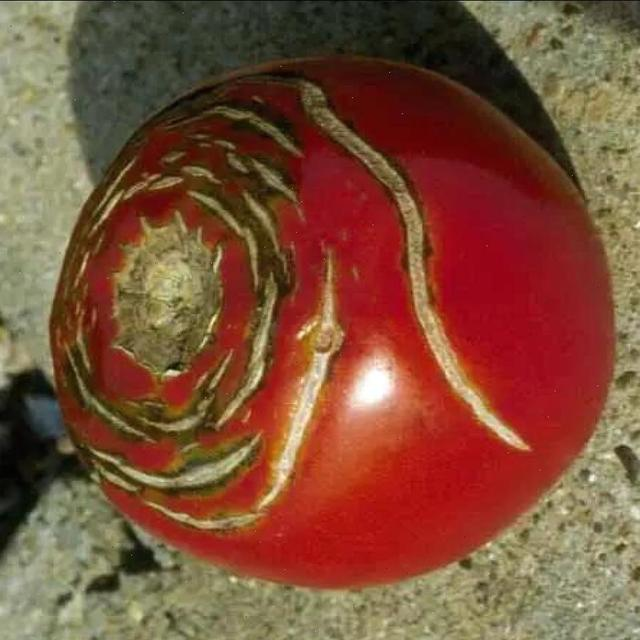Cracking Fruit: (22, 28, 259, 322)
